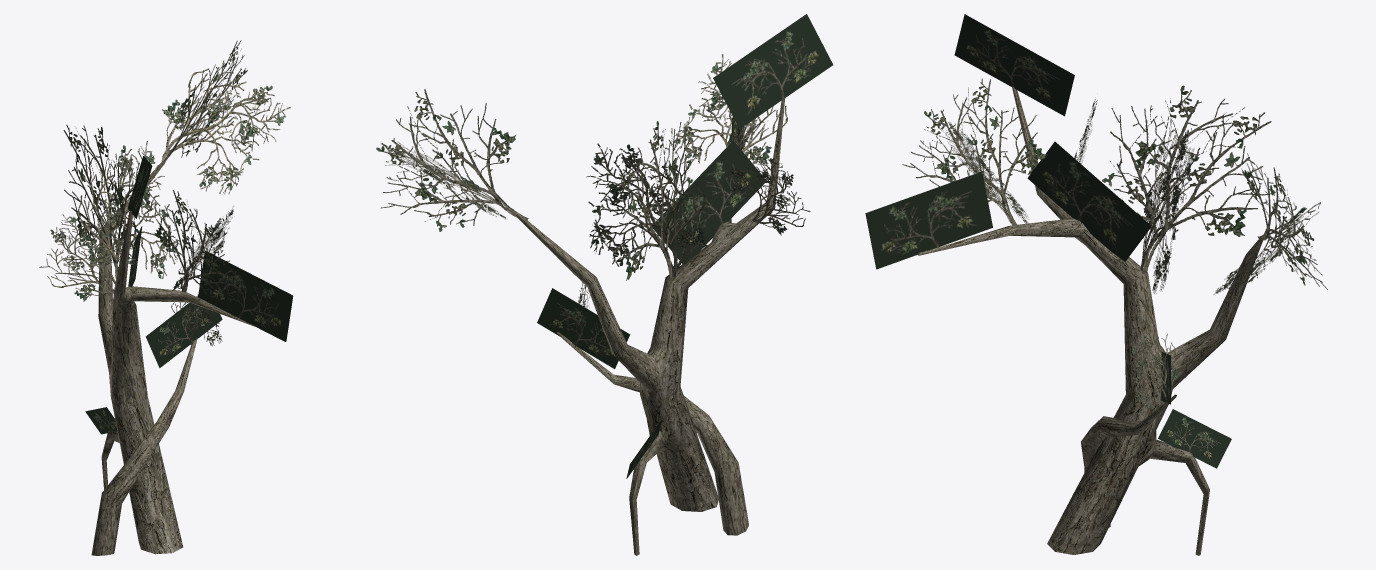
The model's file is mtns_shrb_gnarled_a2_l1.fbx.
The picture shows the model from 3 angles, left to right: view 1: azimuth 30°, elevation 25°; view 2: azimuth 150°, elevation 25°; view 3: azimuth 270°, elevation 25°; orthographic projection. The views are drawn at different scales.
Parts seen in each view (by area): view 1: mesh_node; view 2: mesh_node; view 3: mesh_node.
Boxes of the visible parts, x1,y1,x2,y2 form: mesh_node: (39,40,293,555); mesh_node: (376,14,833,555); mesh_node: (865,14,1327,555).
Size of the model in its own units: 6.92 by 8.07 by 7.07.
